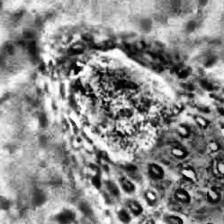Gray Mold: (63, 41, 185, 168)
